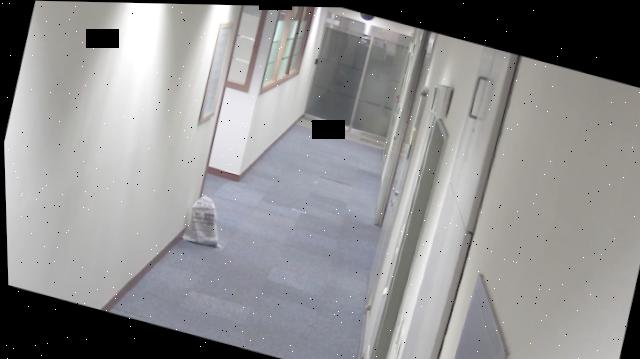trash: (177, 189, 230, 251)
